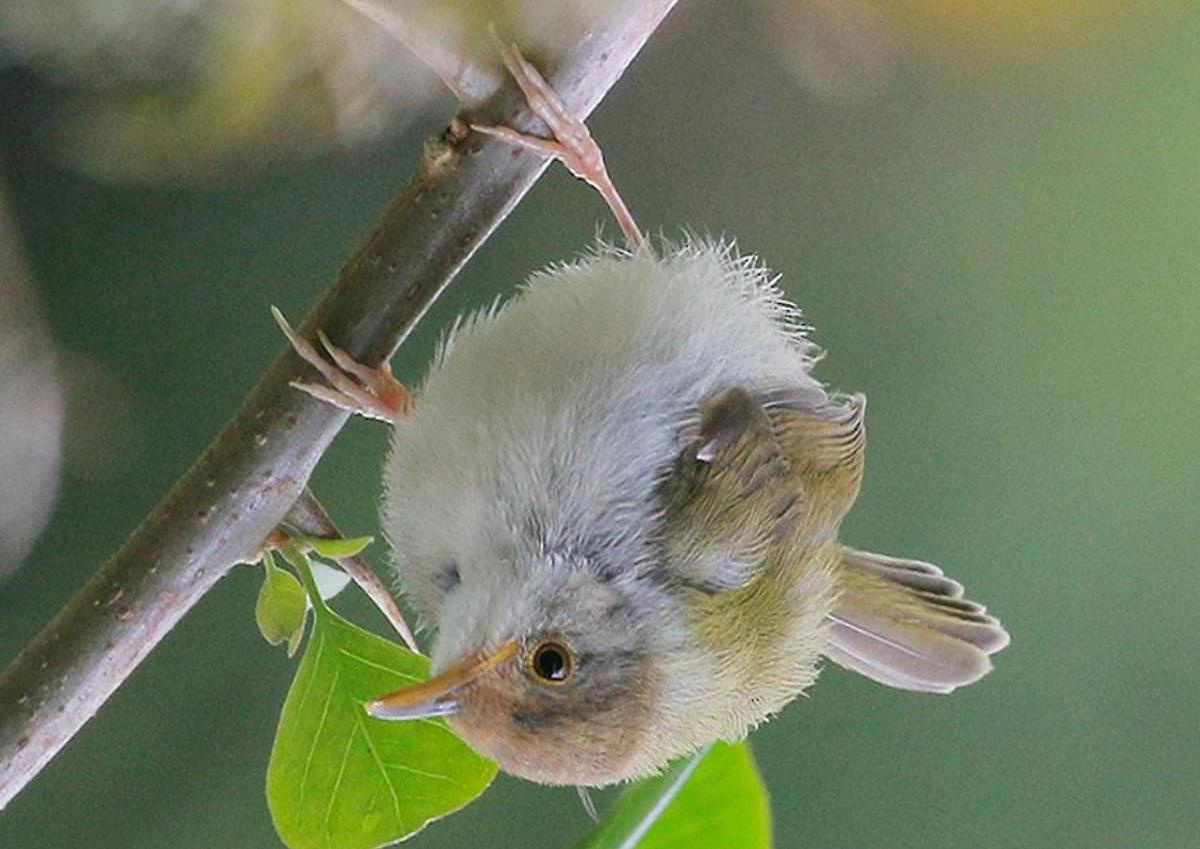tailorbird: (300, 201, 958, 821)
